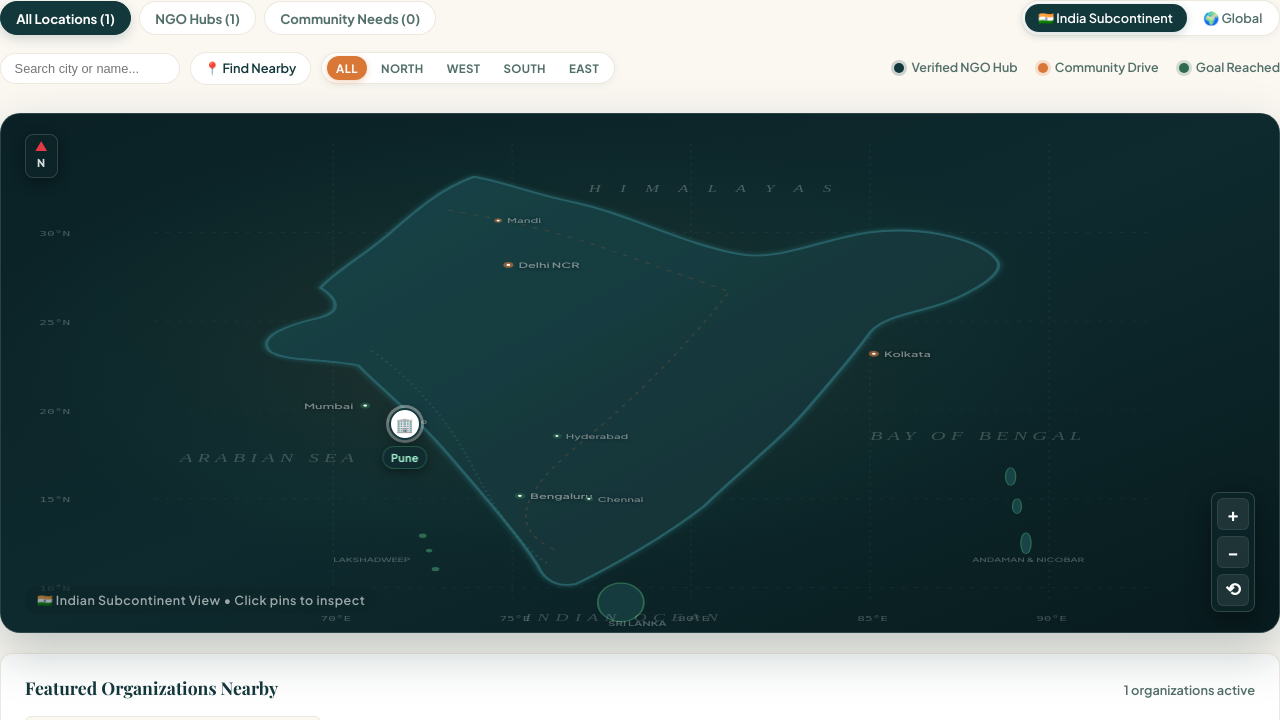
it: Feature 14: Maps and Real MongoDB NGO Coordinates › MapComponent nearby search and location filter filters correctly and shows empty notice if none match
Type "Kolkata" into the field named "Filter map by city or name". click: (90, 68)
box: [0, 53, 180, 84]
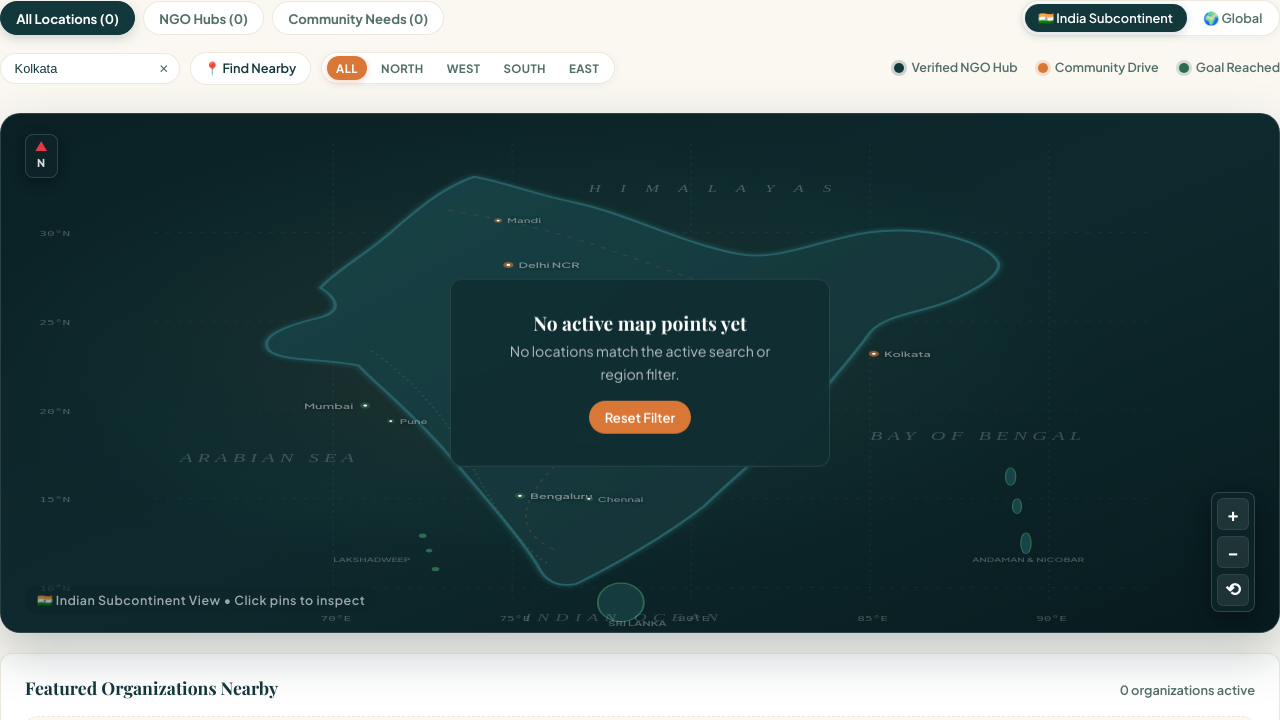
Result: the button "NGO Hubs (0)" is shown
// Click NGO Hubs tab
Click the button "NGO Hubs (0)". click: (204, 18)
box: [143, 1, 264, 35]
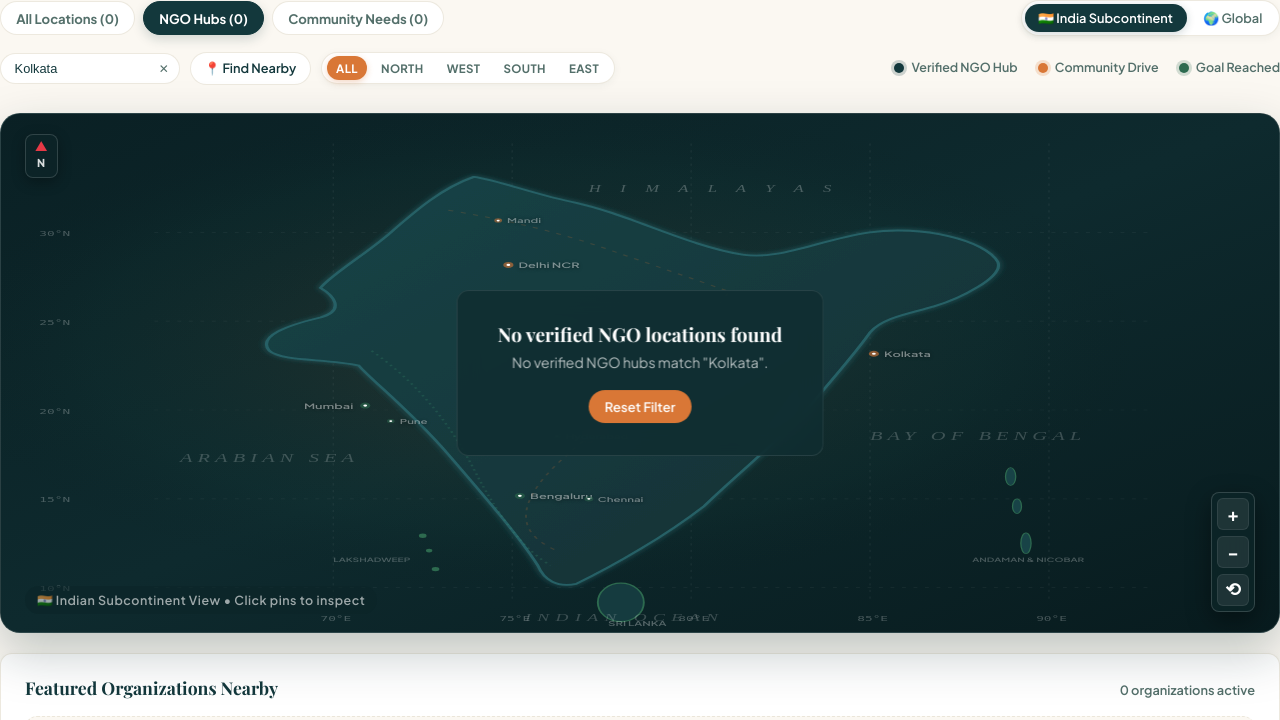
Result: the text "No verified NGO hubs match \"Kolkata\"." is shown at [498, 351, 782, 374]
// Reset filter
Click the button "Reset Filter". click: (640, 406)
box: [589, 390, 691, 422]
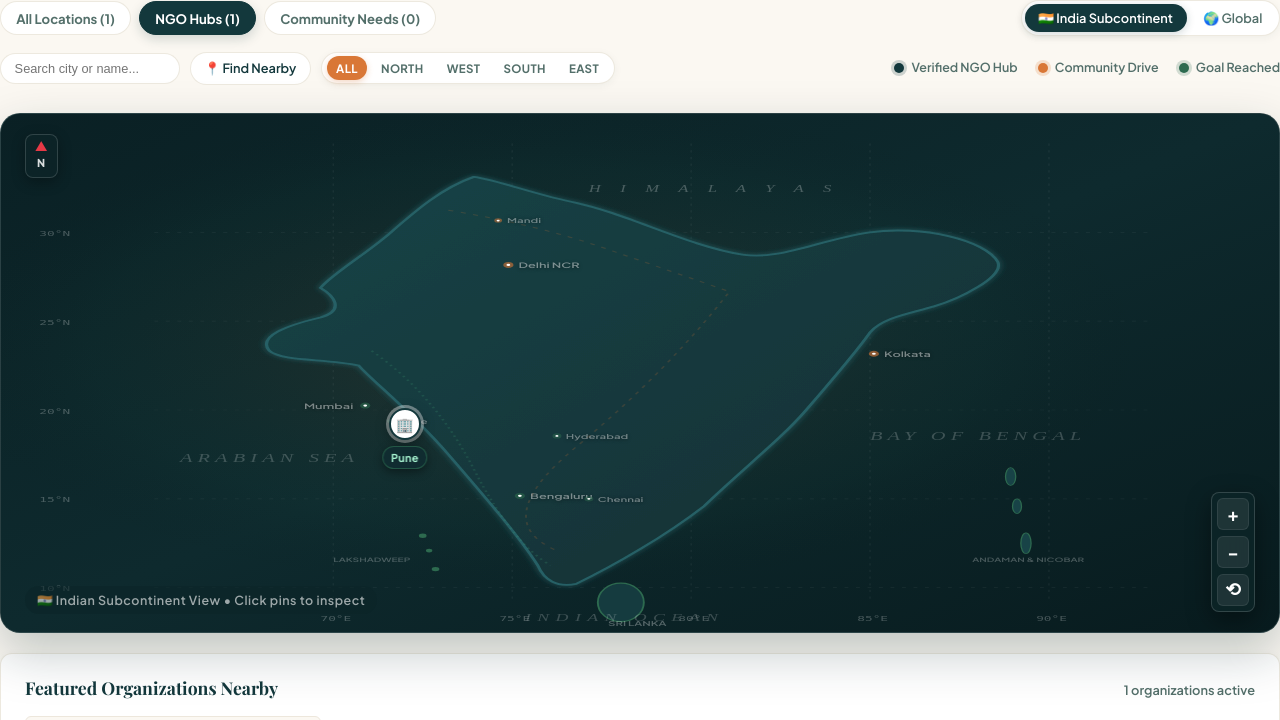
Result: the button "NGO Hubs (1)" is shown at [139, 1, 256, 35]
Result: the element titled "Pune Relief Foundation" is shown at [386, 405, 424, 443]
